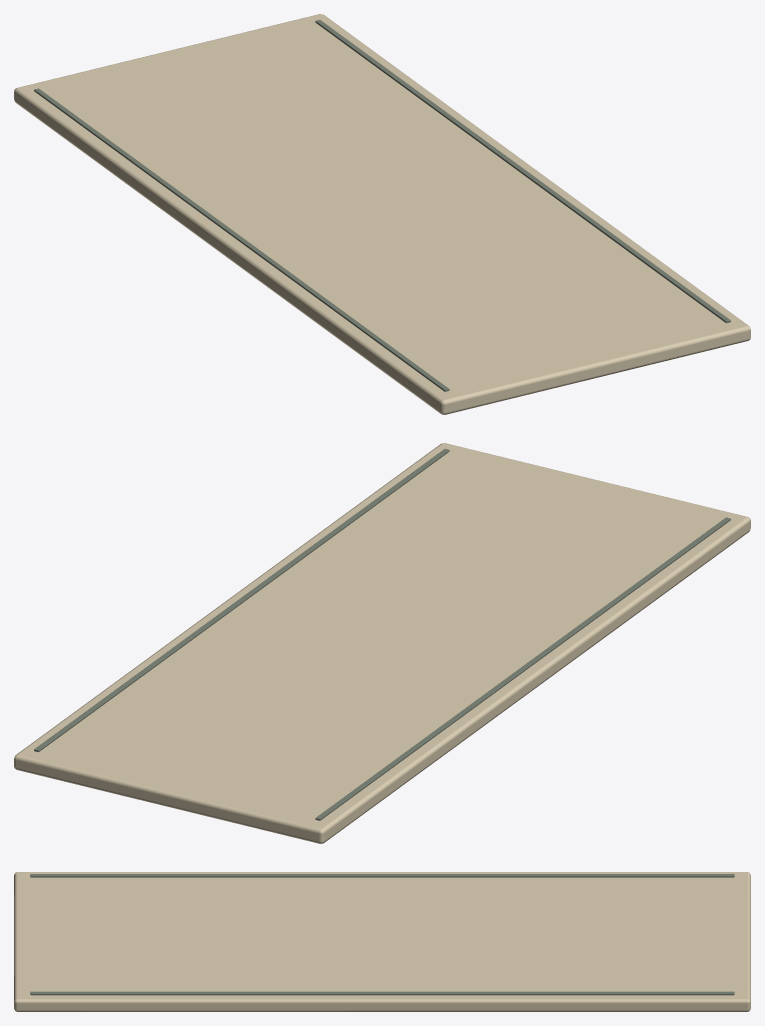
Rendered from fps-weapon-set-and-firing-range-shooting-mat-0daf18eb__19506.glb.
The picture shows the model from 3 angles, top to bottom: view 1: azimuth 30°, elevation 25°; view 2: azimuth 150°, elevation 25°; view 3: azimuth 270°, elevation 25°; orthographic projection. The views are drawn at different scales.
Parts seen in each view (by area): view 1: shooting-mat; view 2: shooting-mat; view 3: shooting-mat.
Boxes of the visible parts, x1=… form: shooting-mat: x1=14, y1=14, x2=750, y2=414; shooting-mat: x1=14, y1=443, x2=750, y2=843; shooting-mat: x1=14, y1=872, x2=750, y2=1011.
Bounding box in the file's own units: 0.75 × 0.04 × 1.8.
